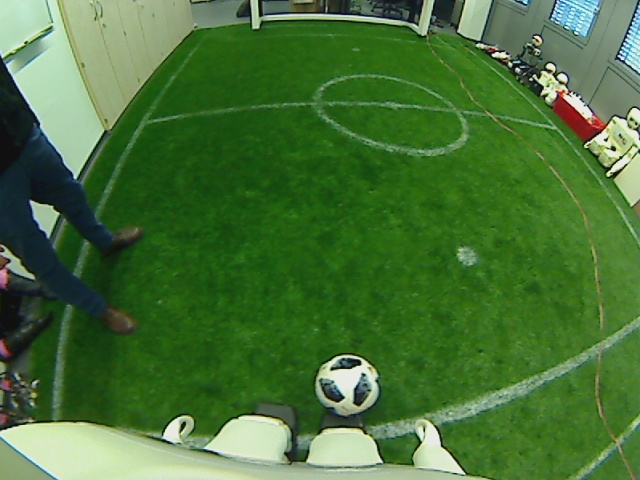ball: (313, 353, 381, 416)
